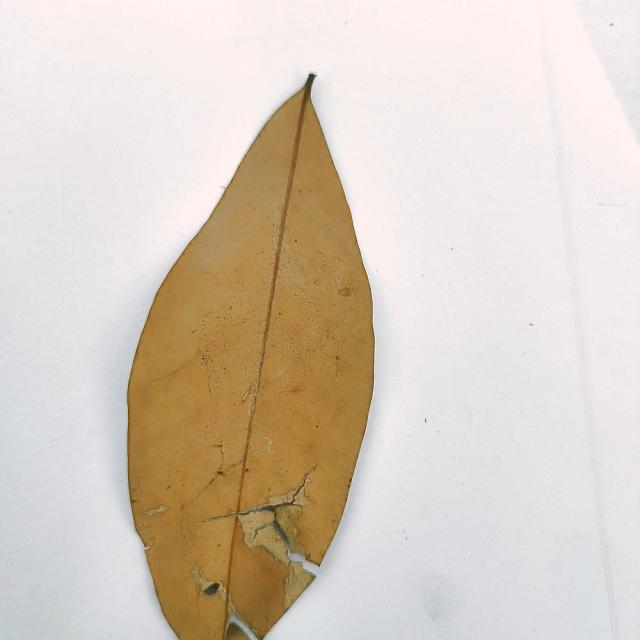Dry_Leaf-Lychee: (125, 78, 375, 639)
